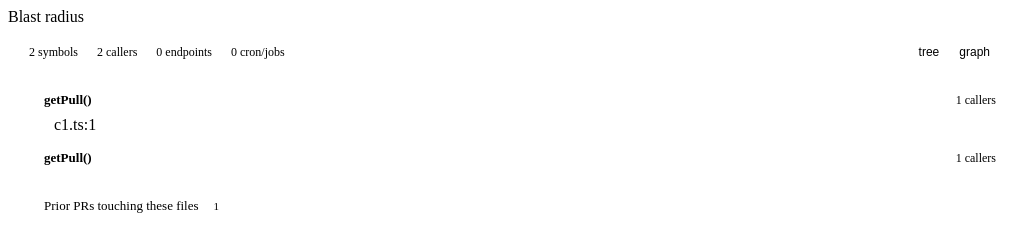
Scenario: BlastCard › renders same-named symbols in the graph without duplicate-key warnings
Step 1. Click the button "graph" → click(975, 52), box [949,42,1000,62]
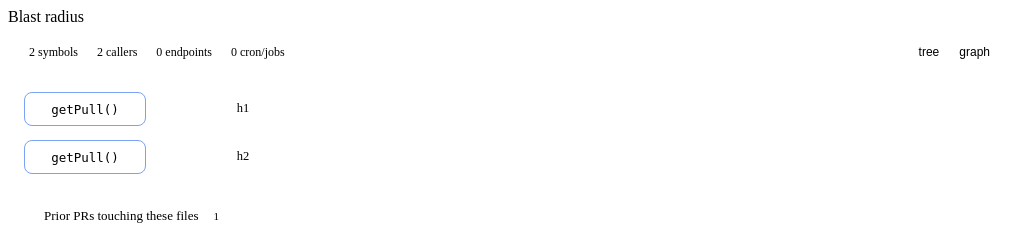
Check: the text "getPull()" is shown 2 times, box [24,92,146,126]; [24,140,146,174]
